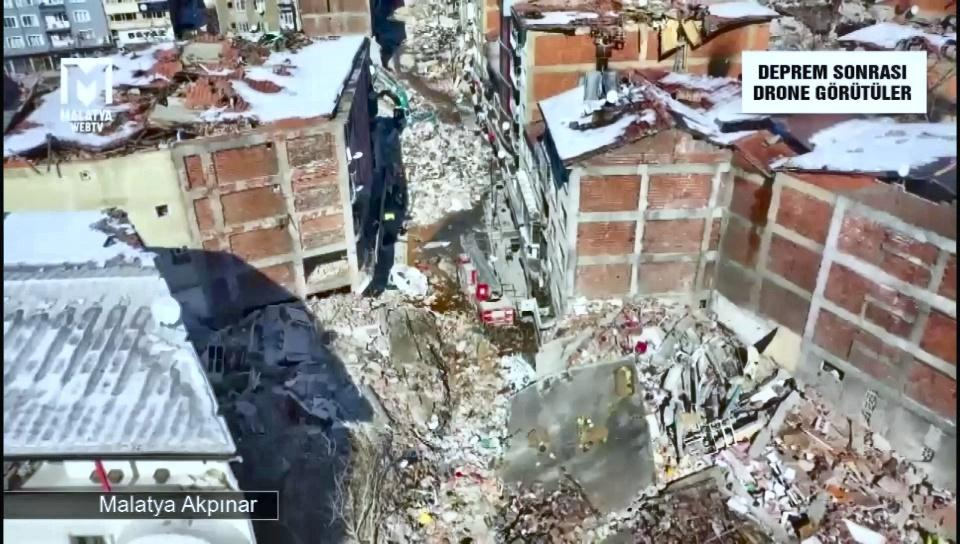kapali: (372, 252, 578, 543), (391, 102, 514, 238), (393, 1, 467, 94)
